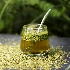guampa: (15, 7, 56, 56)
